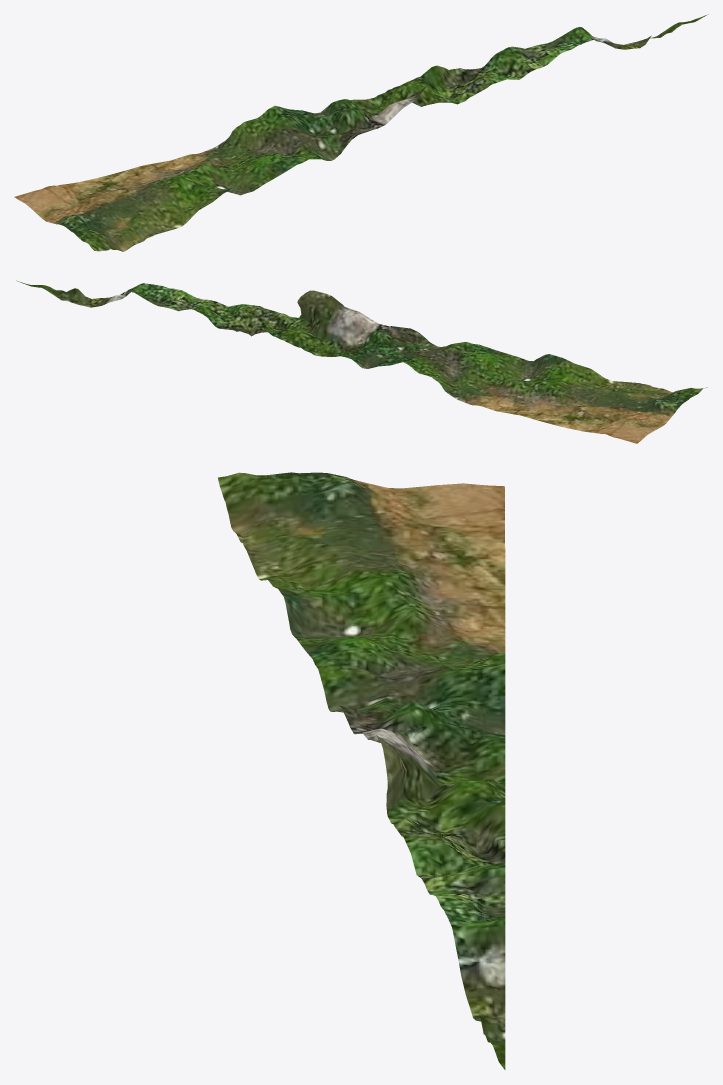
Rendered from Tile_+001_+000_L23_000113000.glb.
3 views of the same model, one above another, from view 1: azimuth 30°, elevation 25°; view 2: azimuth 150°, elevation 25°; view 3: azimuth 270°, elevation 25° (orthographic). The views are drawn at different scales.
Visible parts, largest first — view 1: rtc; view 2: rtc; view 3: rtc.
Boxes of the visible parts, box(x1,y1,x2,y2) form: rtc: box(14, 14, 708, 251); rtc: box(16, 280, 707, 443); rtc: box(218, 472, 505, 1069).
Size of the model in its own units: 12.51 by 0.9765 by 2.5.
1 material, 1 textured.
